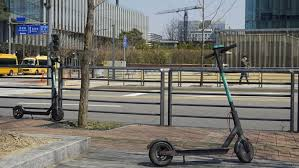kick_board: (147, 43, 255, 161), (13, 56, 64, 120)
kick_body: (173, 148, 227, 154), (23, 109, 49, 117)
kick_handler: (204, 43, 236, 59)
kick_neck: (214, 60, 239, 130), (49, 66, 57, 105)
kick_wheel: (147, 139, 173, 166), (235, 136, 255, 162), (50, 108, 64, 121), (12, 105, 23, 118)
